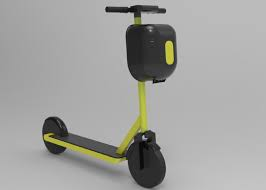kick_board: (42, 6, 176, 187)
kick_handler: (104, 6, 166, 17)
kick_neck: (127, 20, 177, 125)
kick_wheel: (127, 142, 166, 187), (42, 115, 67, 154)
